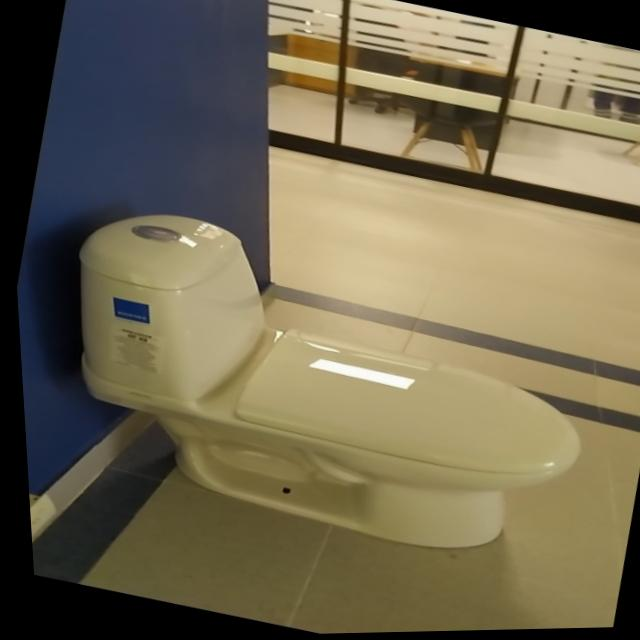toilet: (23, 187, 615, 587)
